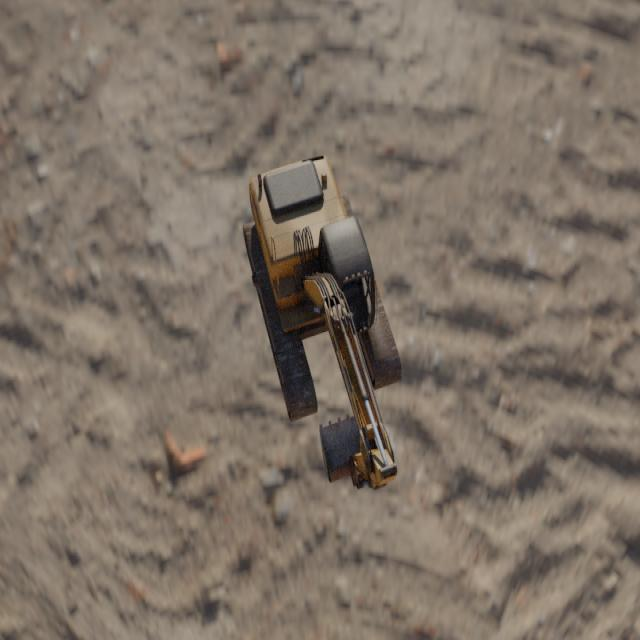excavator: (242, 155, 402, 489)
